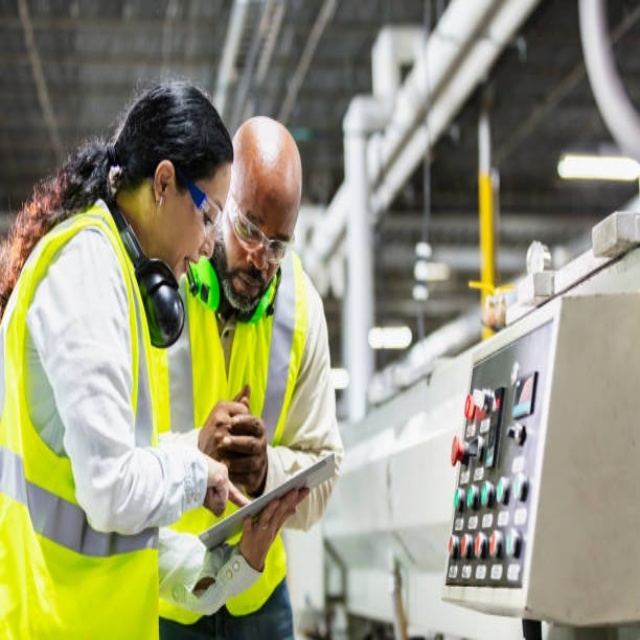Gafas: (227, 193, 295, 265), (179, 168, 223, 243)
Sin_guantes: (207, 383, 270, 498), (237, 485, 311, 574)
Sin_mascara: (229, 265, 267, 312), (174, 251, 203, 278)
